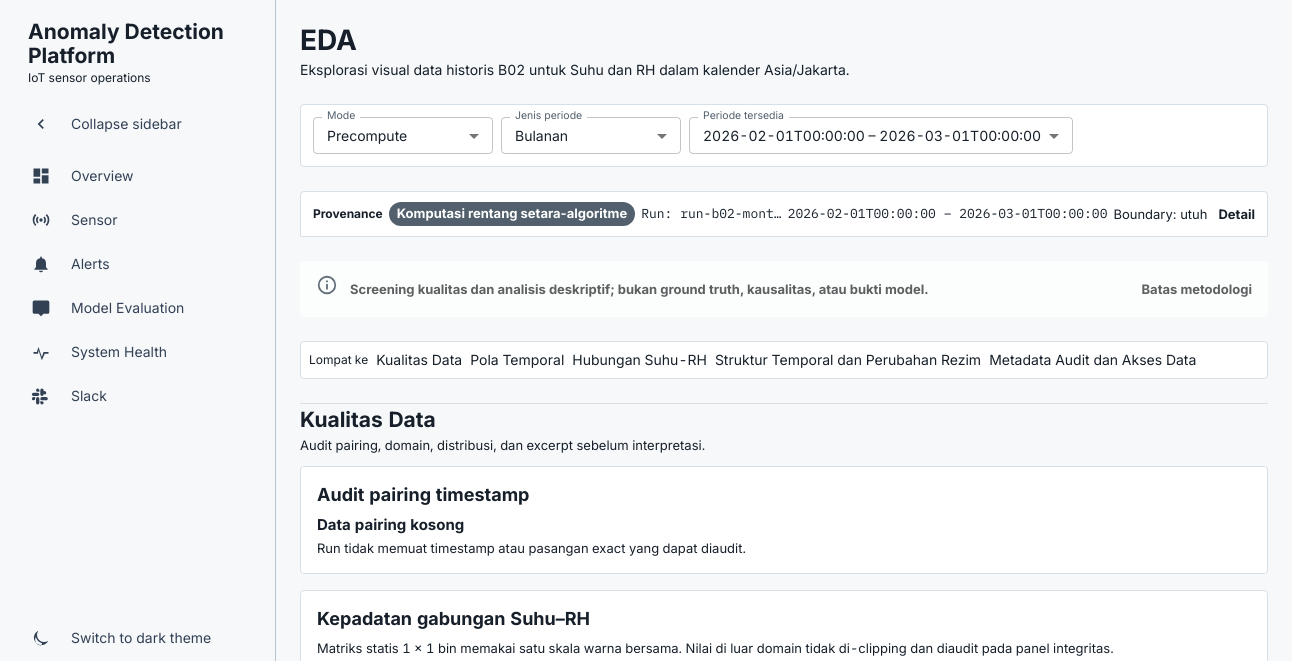
Test: EdaPage › shows source and algorithm provenance plus the global methodology limits
Click the button named "Detail" at x=784, y=214, box [301,192,1267,236]
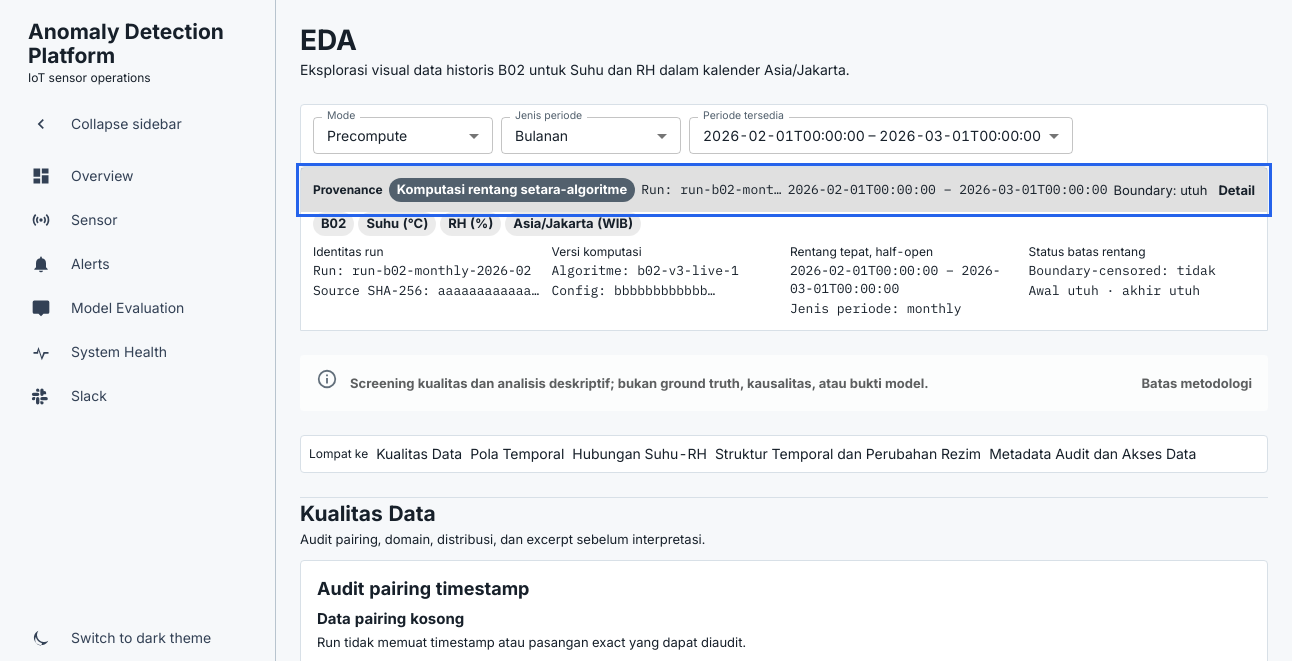
Expected: the text "Algoritme: b02-v3-live-1" is shown, [552,262,739,279]
Expected: the text "2026-02-01T00:00:00 – 2026-03-01T00:00:00" is shown 2 times, [788,181,1107,199]; [790,262,1016,298]
Expected: the text "Jenis periode: monthly" is shown, [790,300,962,317]
Click the button named "Batas metodologi" at x=801, y=383, box [350,361,1252,405]
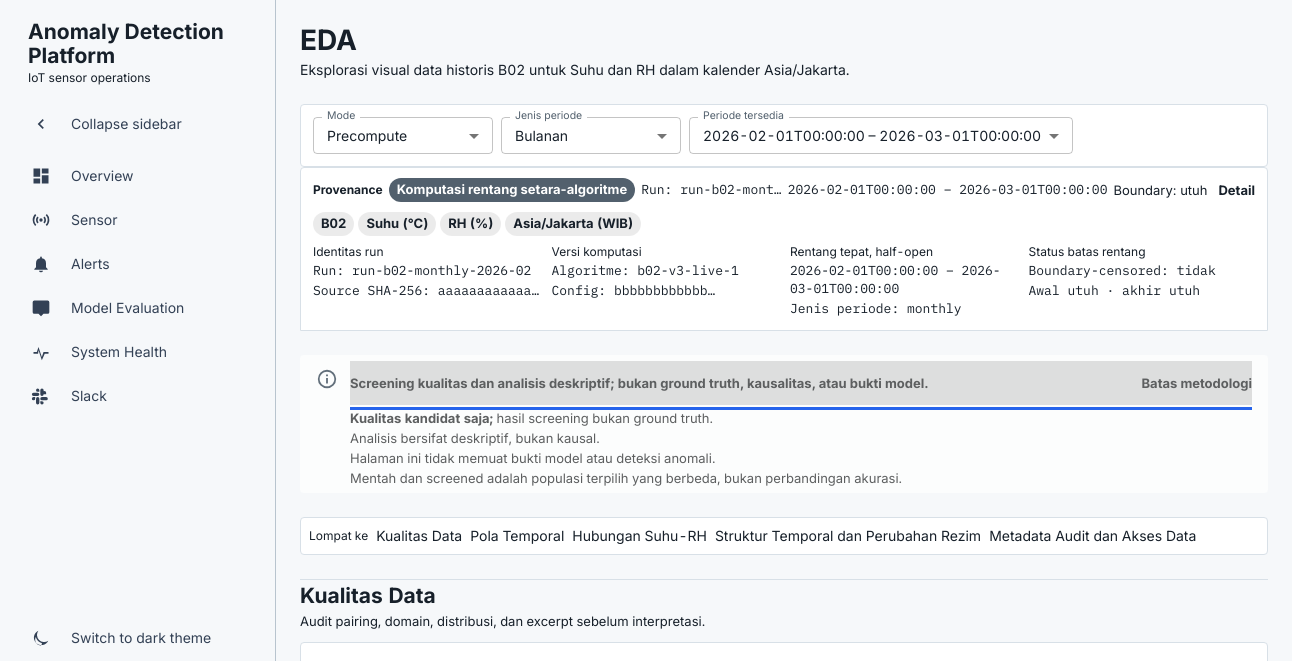
Expected: the text "Kualitas kandidat saja;" is shown, [350,410,493,426]
Expected: the text "Analisis bersifat deskriptif, bukan kausal." is shown, [350,430,600,446]
Expected: the text "Halaman ini tidak memuat bukti model atau deteksi anomali." is shown, [350,450,715,466]
